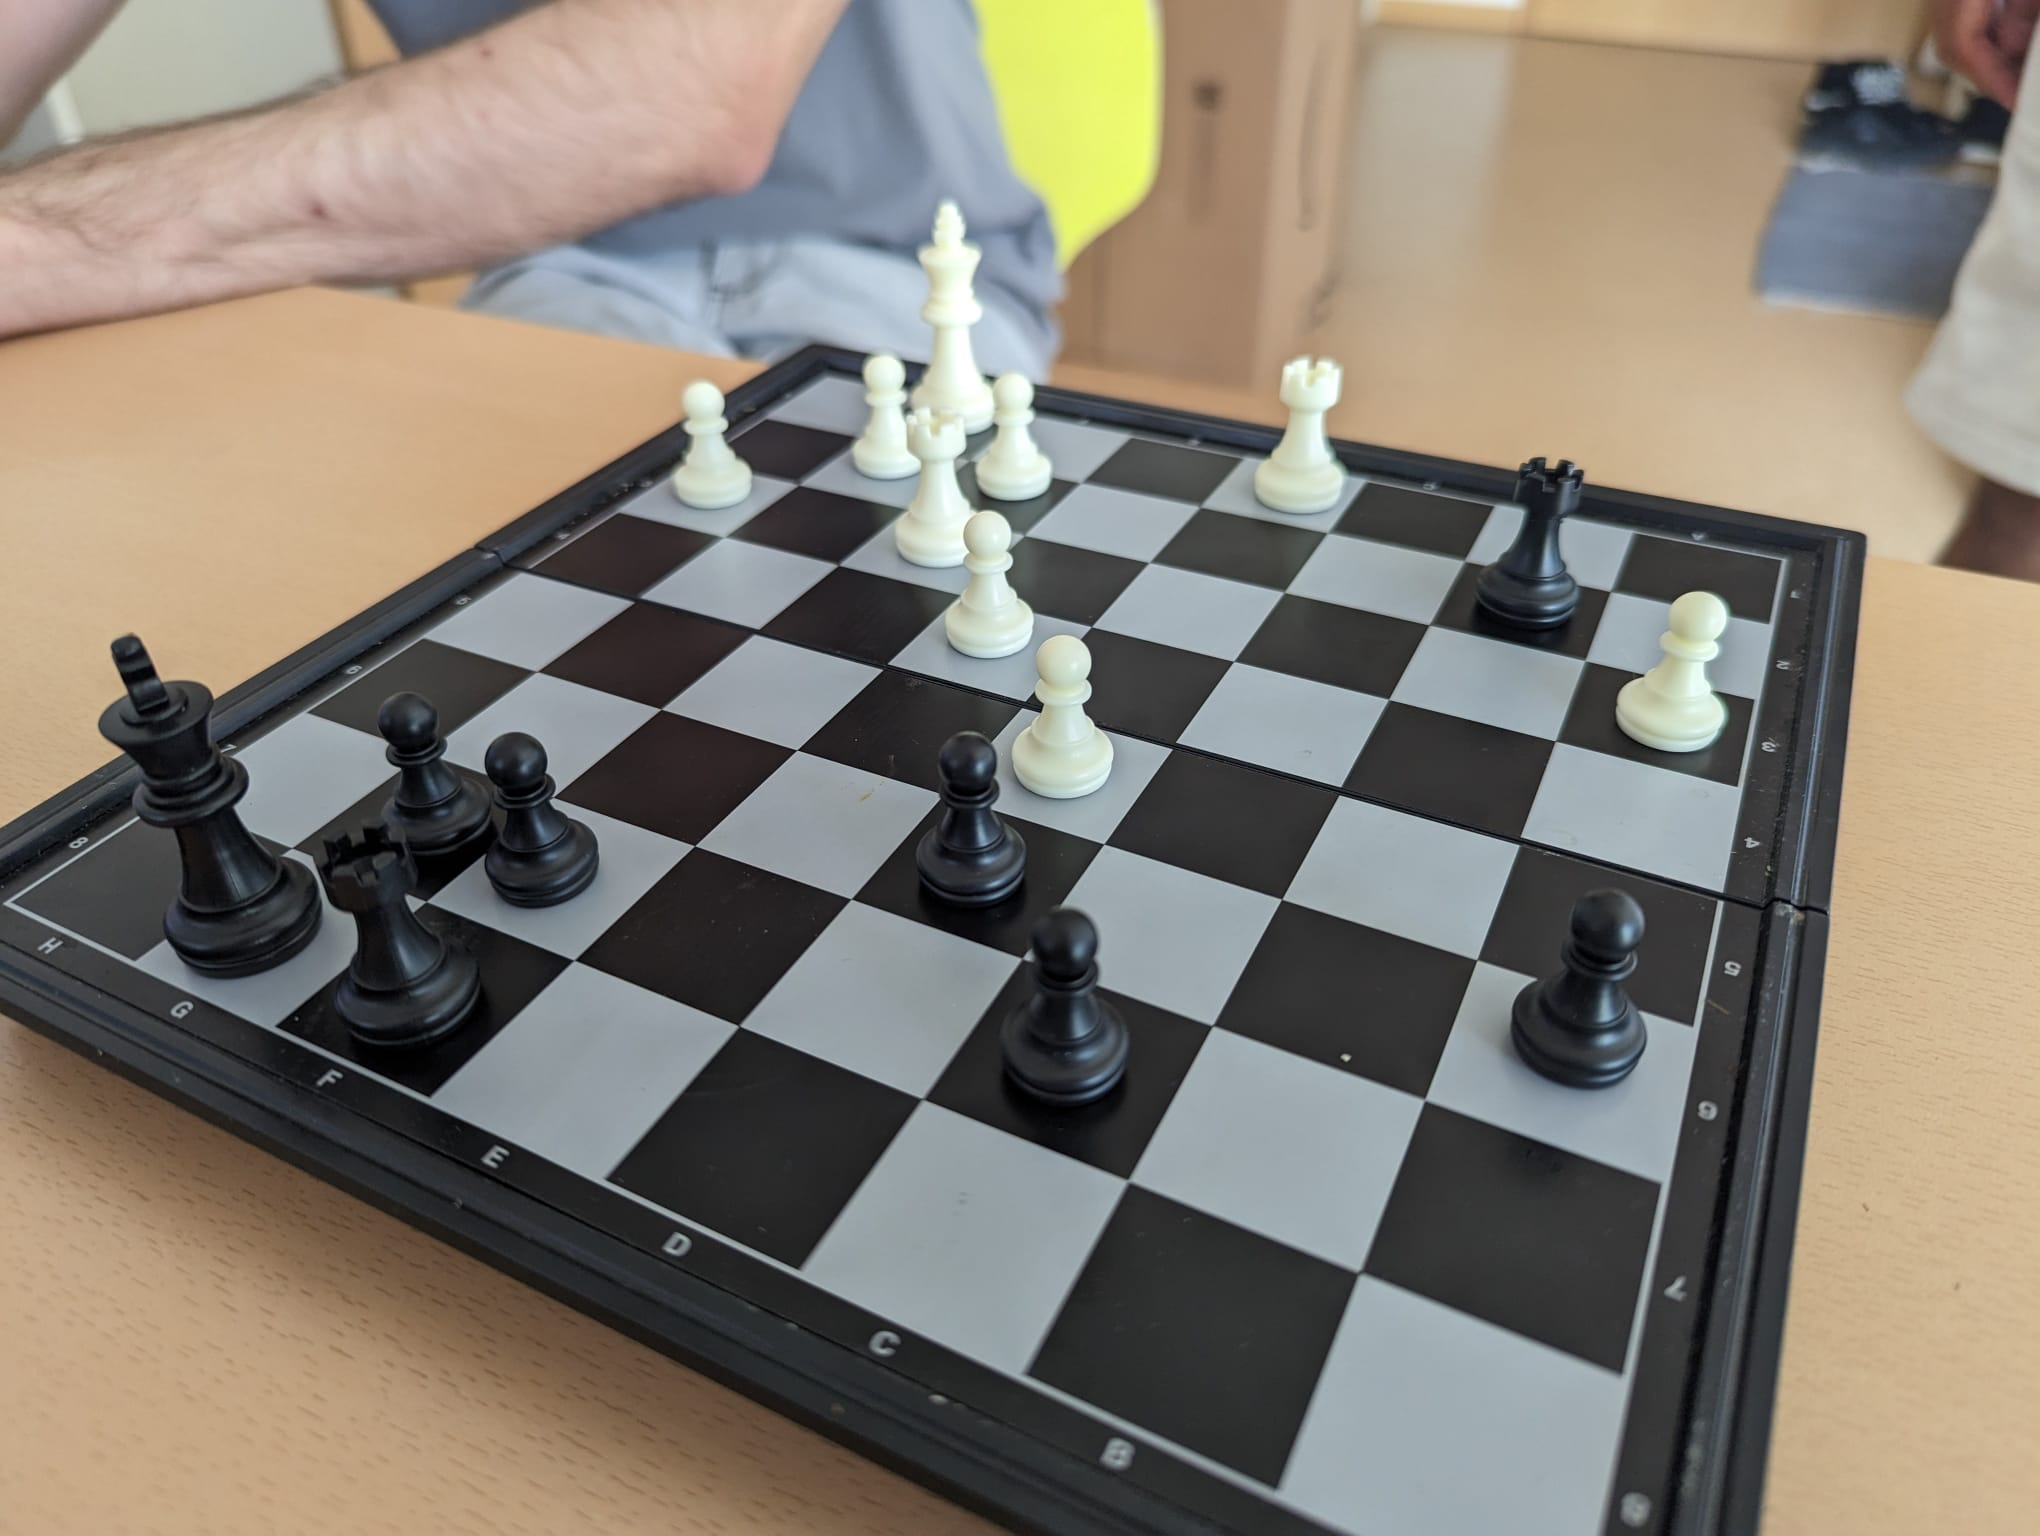BK: (95, 629, 316, 979)
BP: (1511, 887, 1651, 1091), (1003, 905, 1130, 1107), (484, 733, 603, 907), (913, 728, 1029, 907), (377, 686, 489, 858)
BR: (319, 821, 490, 1052), (1477, 455, 1590, 631)
WK: (911, 197, 993, 432)
WP: (1621, 587, 1735, 755), (1011, 632, 1119, 800), (943, 511, 1035, 657), (669, 378, 750, 507), (974, 369, 1050, 499), (855, 349, 919, 478)
WR: (1259, 355, 1350, 518), (895, 407, 972, 561)
